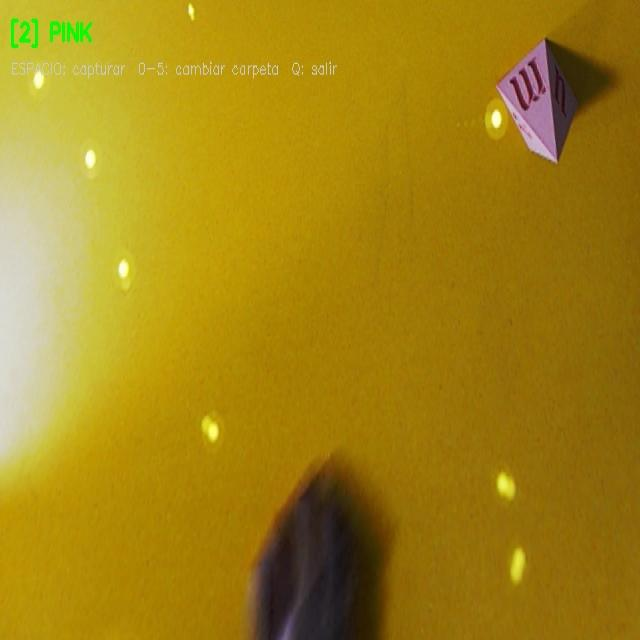pink: (497, 35, 572, 164)
